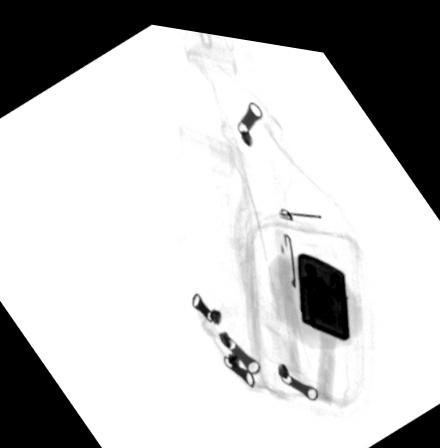Lighter: (296, 240, 350, 327)
